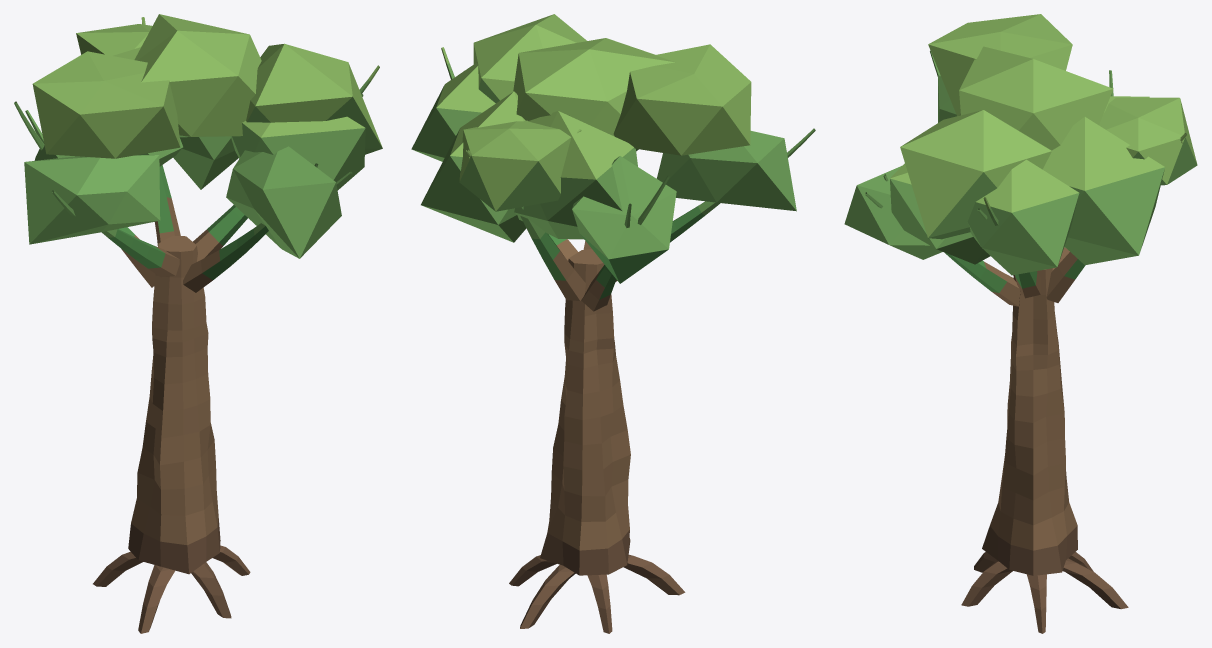
Rendered from tree_oak_medium.glb.
3 renders of one model, left to right at view 1: azimuth 30°, elevation 25°; view 2: azimuth 150°, elevation 25°; view 3: azimuth 270°, elevation 25°, orthographic. The views are drawn at different scales.
Parts seen in each view (by area): view 1: Tree_Oak_Medium_Top, Tree_Oak_Medium_Base; view 2: Tree_Oak_Medium_Top, Tree_Oak_Medium_Base; view 3: Tree_Oak_Medium_Top, Tree_Oak_Medium_Base.
Part boxes in pixels (x1,y1,x2,y2): Tree_Oak_Medium_Top: (14,14,382,342); Tree_Oak_Medium_Base: (93,333,250,633); Tree_Oak_Medium_Top: (411,14,815,353); Tree_Oak_Medium_Base: (509,342,685,633); Tree_Oak_Medium_Top: (844,14,1197,356); Tree_Oak_Medium_Base: (961,344,1128,633).
Bounding box in the file's own units: 8.55 × 12.88 × 7.65.
